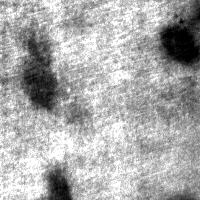patches: (145, 117, 200, 200), (21, 32, 58, 110), (160, 13, 199, 67), (37, 163, 70, 200)
